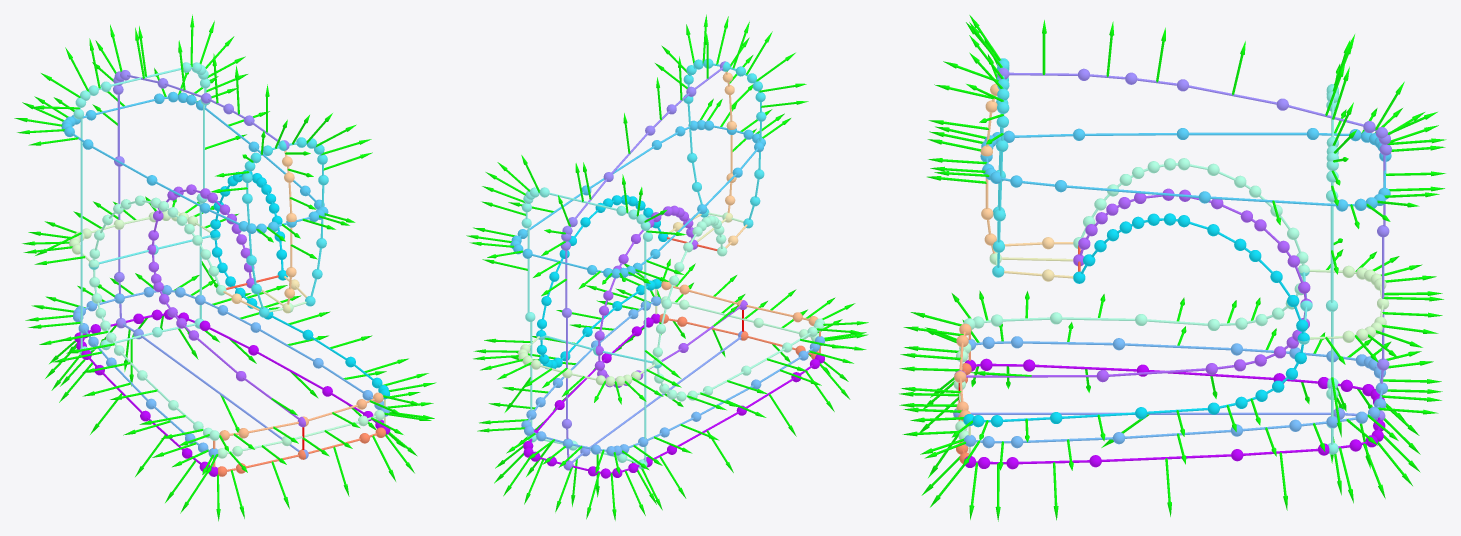
File: t2f_sewing_machine.gltf
The picture shows the model from 3 angles, left to right: view 1: azimuth 30°, elevation 25°; view 2: azimuth 150°, elevation 25°; view 3: azimuth 270°, elevation 25°; orthographic projection. The views are drawn at different scales.
Bounding box in the file's own units: 0.583 × 0.8062 × 0.8883.
